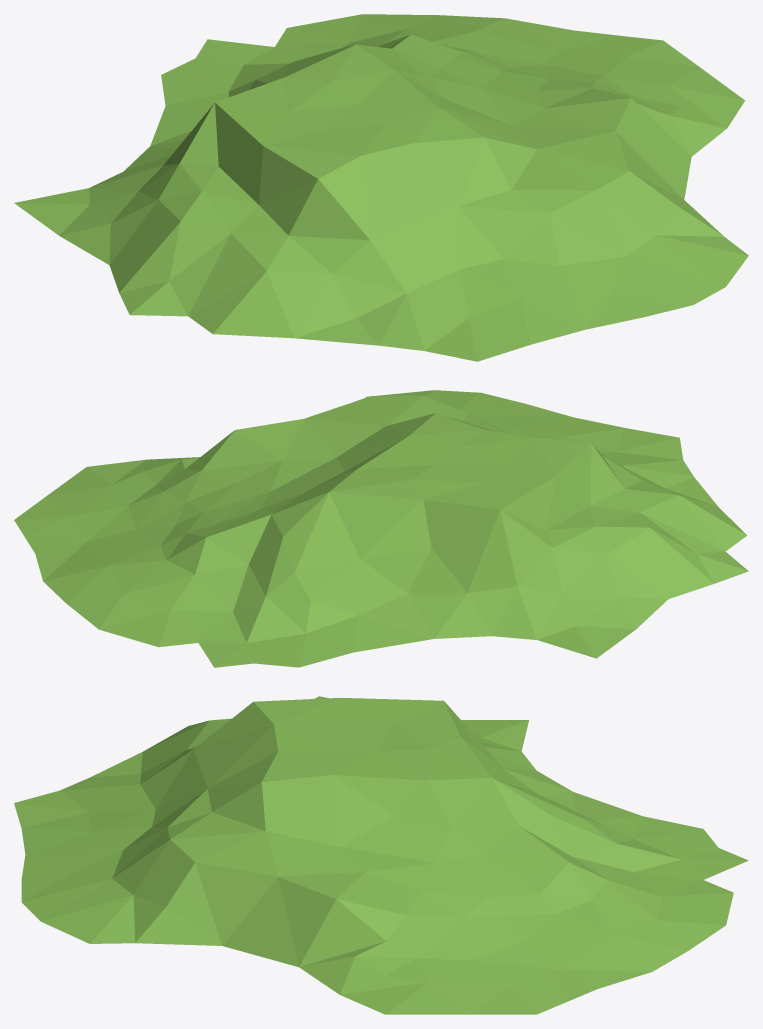
Rendered from MT_Mountain_L_c_12.fbx.
3 renders of one model, top to bottom at view 1: azimuth 30°, elevation 25°; view 2: azimuth 150°, elevation 25°; view 3: azimuth 270°, elevation 25°, orthographic. The views are drawn at different scales.
Visible parts, largest first — view 1: MT_Mountain_L_c_12; view 2: MT_Mountain_L_c_12; view 3: MT_Mountain_L_c_12.
Part boxes in pixels (bbox=[...]): MT_Mountain_L_c_12: bbox=[14, 14, 748, 361]; MT_Mountain_L_c_12: bbox=[14, 390, 748, 667]; MT_Mountain_L_c_12: bbox=[14, 696, 748, 1014].
Bounding box in the file's own units: 3906 × 535 × 3948.
